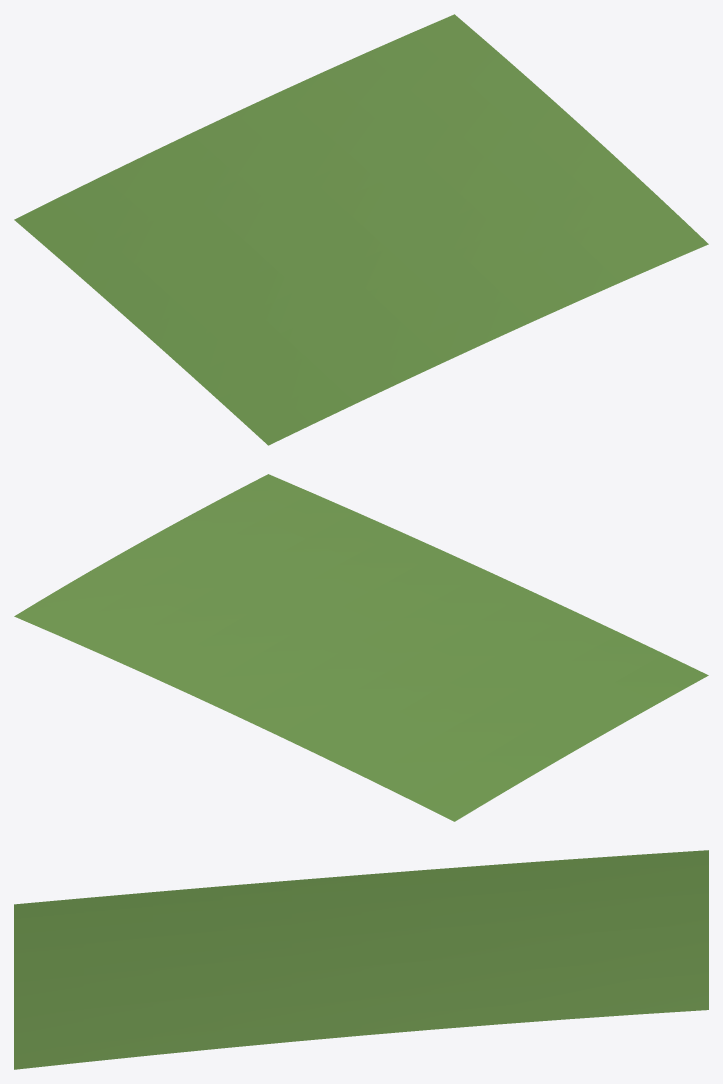
File: terrain-10-10.gltf
The picture shows the model from 3 angles, top to bottom: view 1: azimuth 30°, elevation 25°; view 2: azimuth 150°, elevation 25°; view 3: azimuth 270°, elevation 25°; orthographic projection. The views are drawn at different scales.
Bounding box in the file's own units: 50 × 14.93 × 50.
